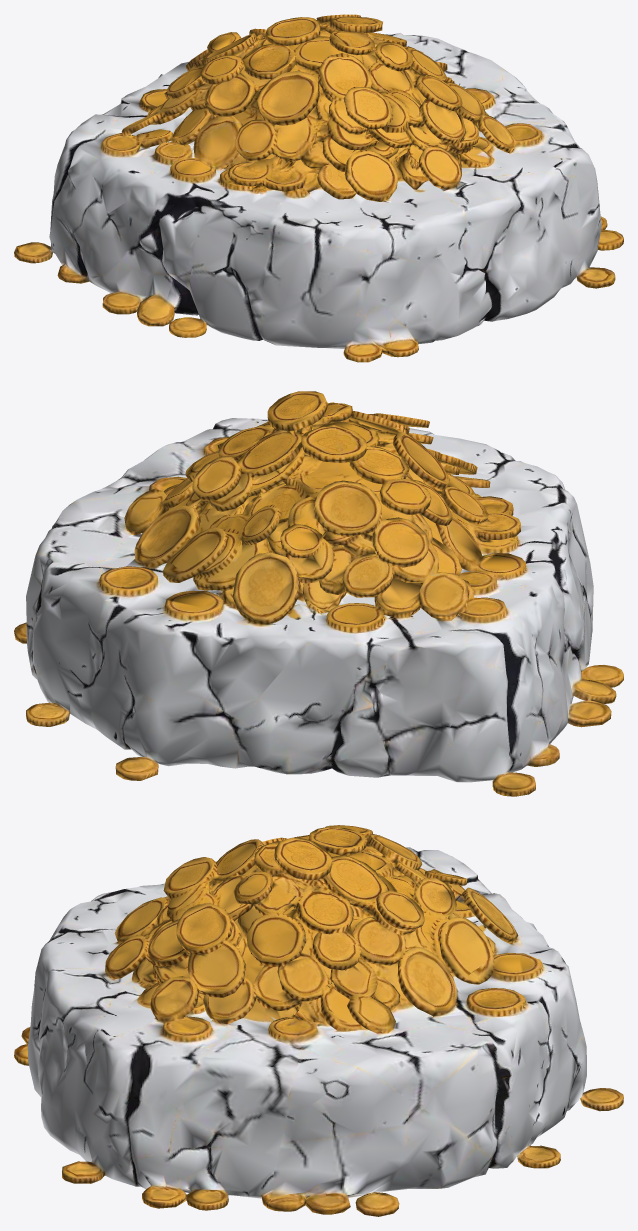
File: coin-block.glb
3 renders of one model, top to bottom at view 1: azimuth 30°, elevation 25°; view 2: azimuth 150°, elevation 25°; view 3: azimuth 270°, elevation 25°, orthographic. The views are drawn at different scales.
Bounding box in the file's own units: 1.9 × 0.8613 × 1.87.
1 material, 1 textured.
